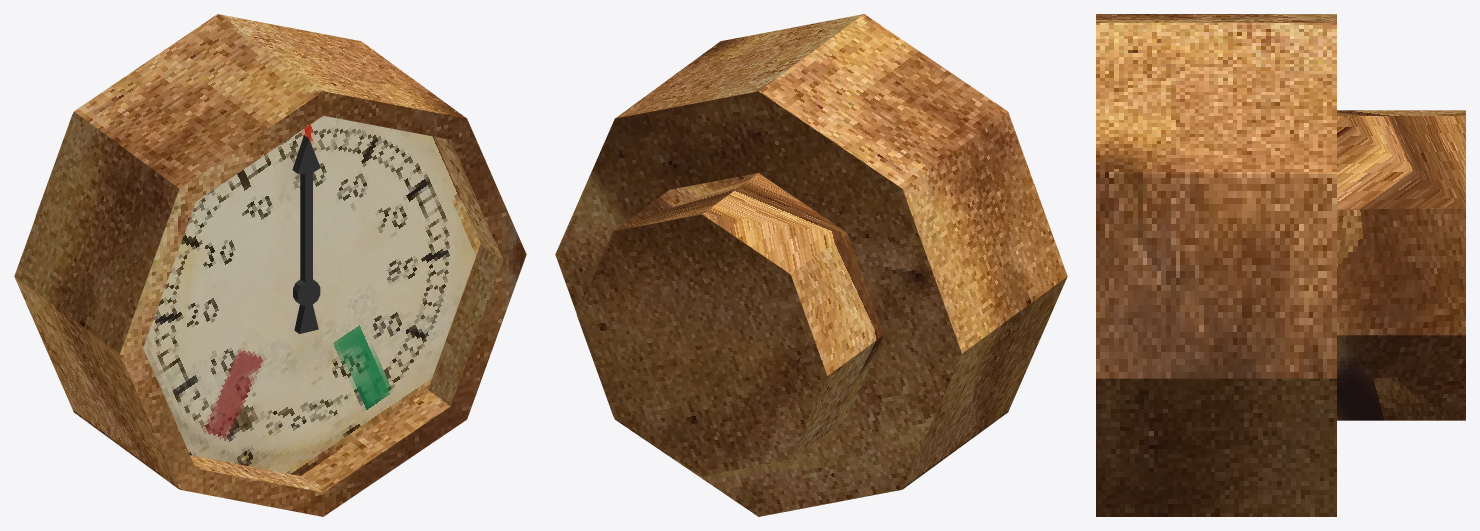
The model's file is gauge_furnace.glb.
3 views of the same model, side by side, from view 1: azimuth 30°, elevation 25°; view 2: azimuth 150°, elevation 25°; view 3: azimuth 270°, elevation 25° (orthographic). The views are drawn at different scales.
Parts seen in each view (by area): view 1: gauge.furnace, gauge_hand; view 2: gauge.furnace; view 3: gauge.furnace.
Boxes of the visible parts, bbox=[...] form: gauge.furnace: bbox=[14, 14, 526, 516]; gauge_hand: bbox=[292, 135, 320, 333]; gauge.furnace: bbox=[555, 14, 1067, 516]; gauge.furnace: bbox=[1096, 14, 1465, 516].
Size of the model in its own units: 0.3563 by 0.3563 by 0.2462.
Materials: 2 (1 with a texture image).
